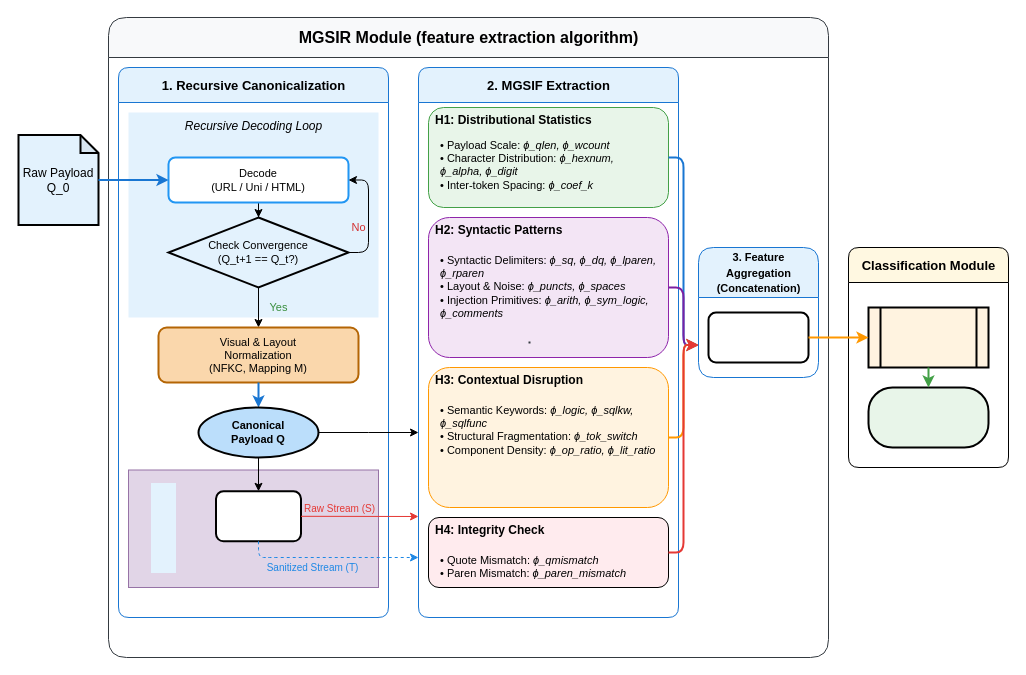
Some shapes in this 1026 by 675 pixel diagram are drawn without their labels. Each missing label, with the centre of its shape:
Comment Normalization, Tokenization: point (258, 516)
Dual-Stream: point (163, 527)
MGSIF Vector x ∈ R^23: point (758, 337)
Verdict: Benign / Malicious: point (928, 417)
XGBoost Classifier: point (928, 337)
